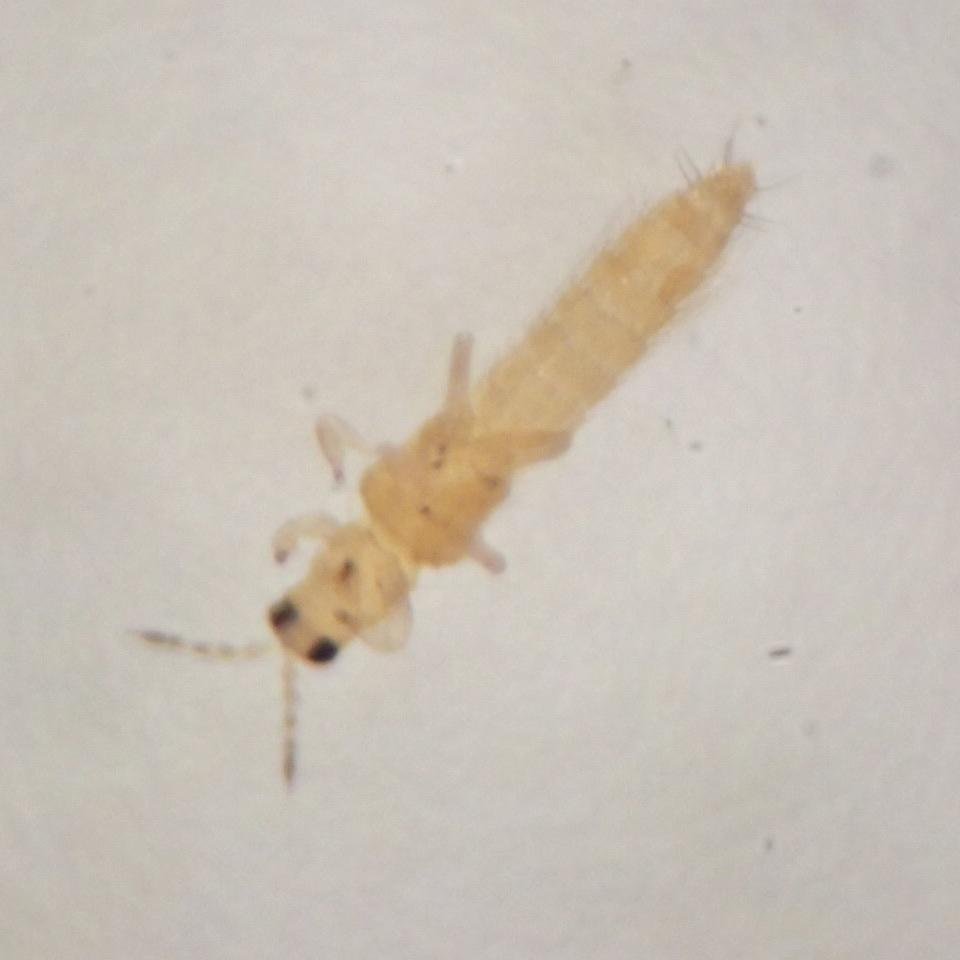tiny_pests: (71, 54, 894, 879)
